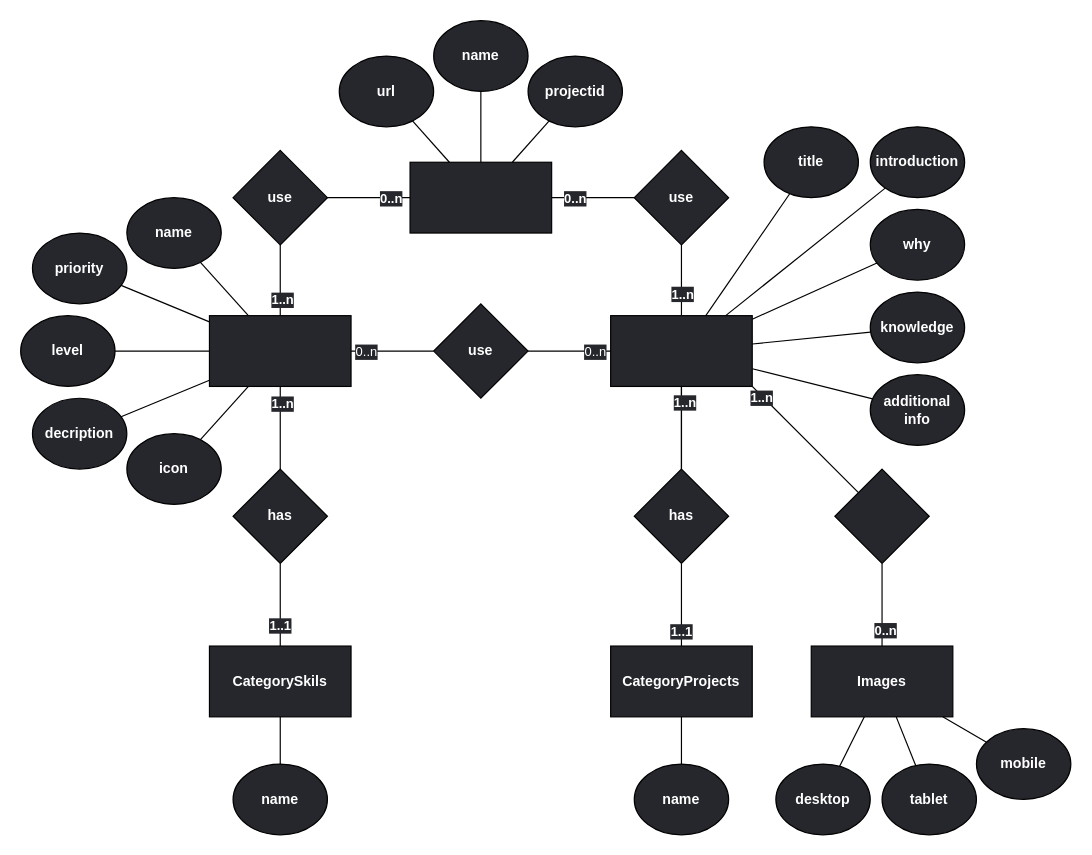
Image size: 1092x855. Some labels were removed from this diagram. The box of each missing label's shape, as (x1, y1, x2, y2) in pixels:
Links: (409, 161, 552, 233)
own: (834, 468, 929, 563)
Projects: (609, 314, 752, 386)
Skills: (208, 314, 351, 386)
